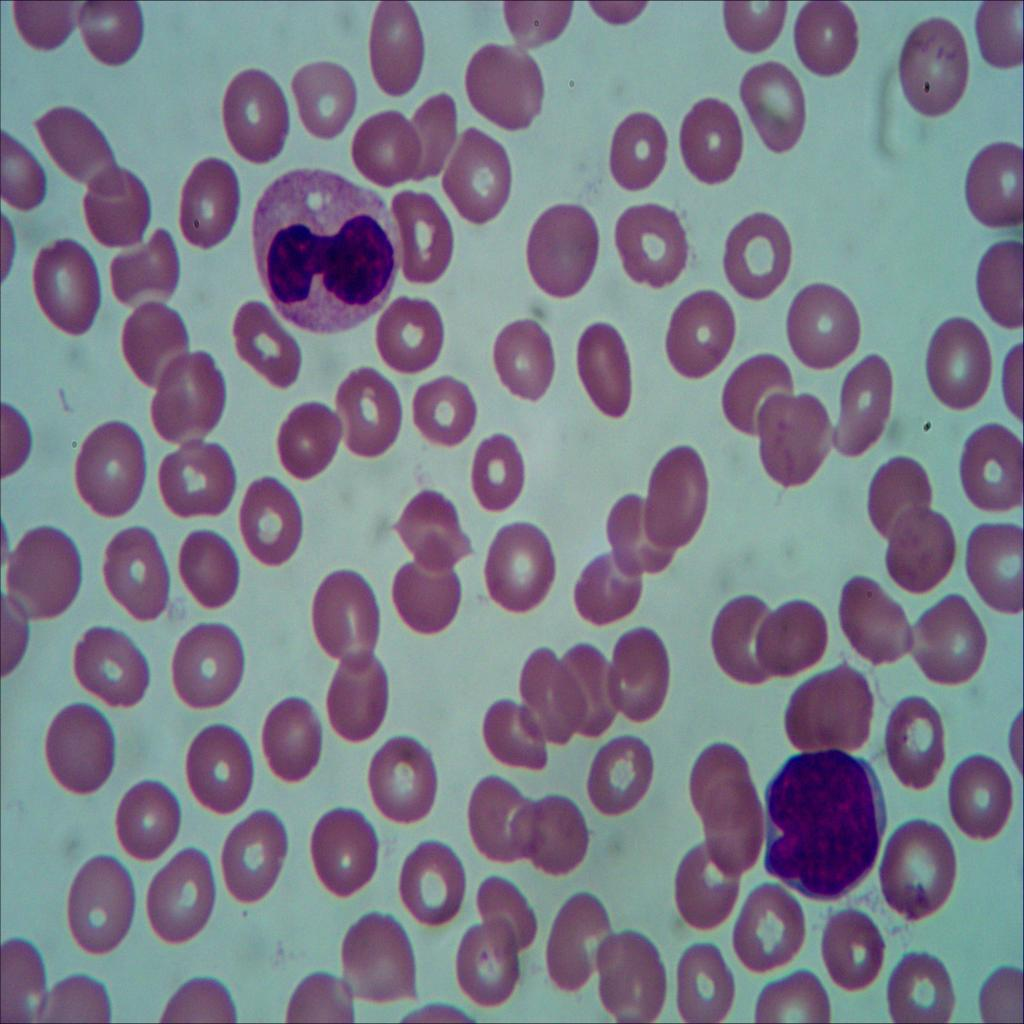Eritrosit: (24, 97, 124, 200), (733, 50, 824, 156), (0, 526, 98, 623), (610, 198, 702, 300), (778, 274, 866, 379), (35, 693, 127, 793), (887, 14, 969, 126), (658, 282, 748, 384), (60, 841, 136, 961), (641, 435, 713, 558), (335, 907, 422, 1007), (474, 512, 561, 612), (173, 717, 259, 818), (819, 348, 895, 462), (69, 416, 153, 518), (216, 801, 290, 916), (227, 294, 309, 396), (534, 896, 622, 991), (32, 234, 109, 342), (785, 662, 876, 752), (384, 181, 459, 289), (148, 434, 238, 524), (926, 316, 1006, 417), (100, 514, 174, 623), (438, 128, 514, 234), (946, 414, 1024, 517), (912, 600, 997, 694), (605, 492, 686, 590), (167, 522, 252, 615), (382, 490, 476, 574), (310, 564, 384, 670), (674, 90, 745, 200), (840, 568, 912, 676), (310, 800, 385, 902), (75, 614, 153, 712), (888, 820, 962, 923), (719, 212, 800, 306), (868, 936, 954, 1024), (216, 71, 294, 168), (728, 872, 806, 969), (467, 42, 550, 132), (528, 195, 601, 297), (592, 936, 676, 1024), (506, 649, 588, 739), (366, 728, 443, 823), (662, 834, 741, 926), (465, 771, 543, 864), (704, 590, 780, 685), (572, 319, 637, 430), (816, 913, 892, 1007), (550, 642, 620, 744), (333, 364, 410, 456), (876, 693, 949, 790), (148, 349, 227, 438), (169, 620, 248, 709), (762, 390, 836, 485), (285, 48, 358, 144), (599, 106, 675, 197), (78, 160, 156, 248), (120, 290, 192, 385), (467, 864, 541, 955), (399, 832, 467, 930), (172, 157, 242, 252), (702, 782, 772, 877), (782, 0, 861, 84), (272, 396, 350, 480), (242, 478, 311, 572), (108, 224, 181, 312), (108, 776, 181, 864), (669, 936, 742, 1024), (321, 654, 392, 744), (347, 106, 423, 190), (862, 444, 929, 539), (260, 695, 333, 782), (587, 728, 656, 820), (486, 308, 555, 400), (946, 744, 1012, 840), (368, 0, 430, 102), (516, 793, 592, 875), (962, 522, 1024, 622), (151, 850, 216, 945), (478, 694, 551, 778), (610, 636, 678, 726), (570, 549, 650, 625), (390, 554, 462, 638), (673, 733, 746, 815), (74, 0, 150, 78), (758, 593, 834, 671), (724, 354, 800, 431), (894, 504, 958, 595), (396, 82, 454, 180), (752, 961, 840, 1024), (406, 373, 482, 444), (959, 143, 1024, 225), (464, 920, 526, 1004), (976, 232, 1024, 340), (372, 300, 445, 371), (470, 433, 528, 518), (0, 127, 50, 216)
Limfoblast: (763, 742, 892, 907)
Neutrofil: (248, 165, 406, 343)
